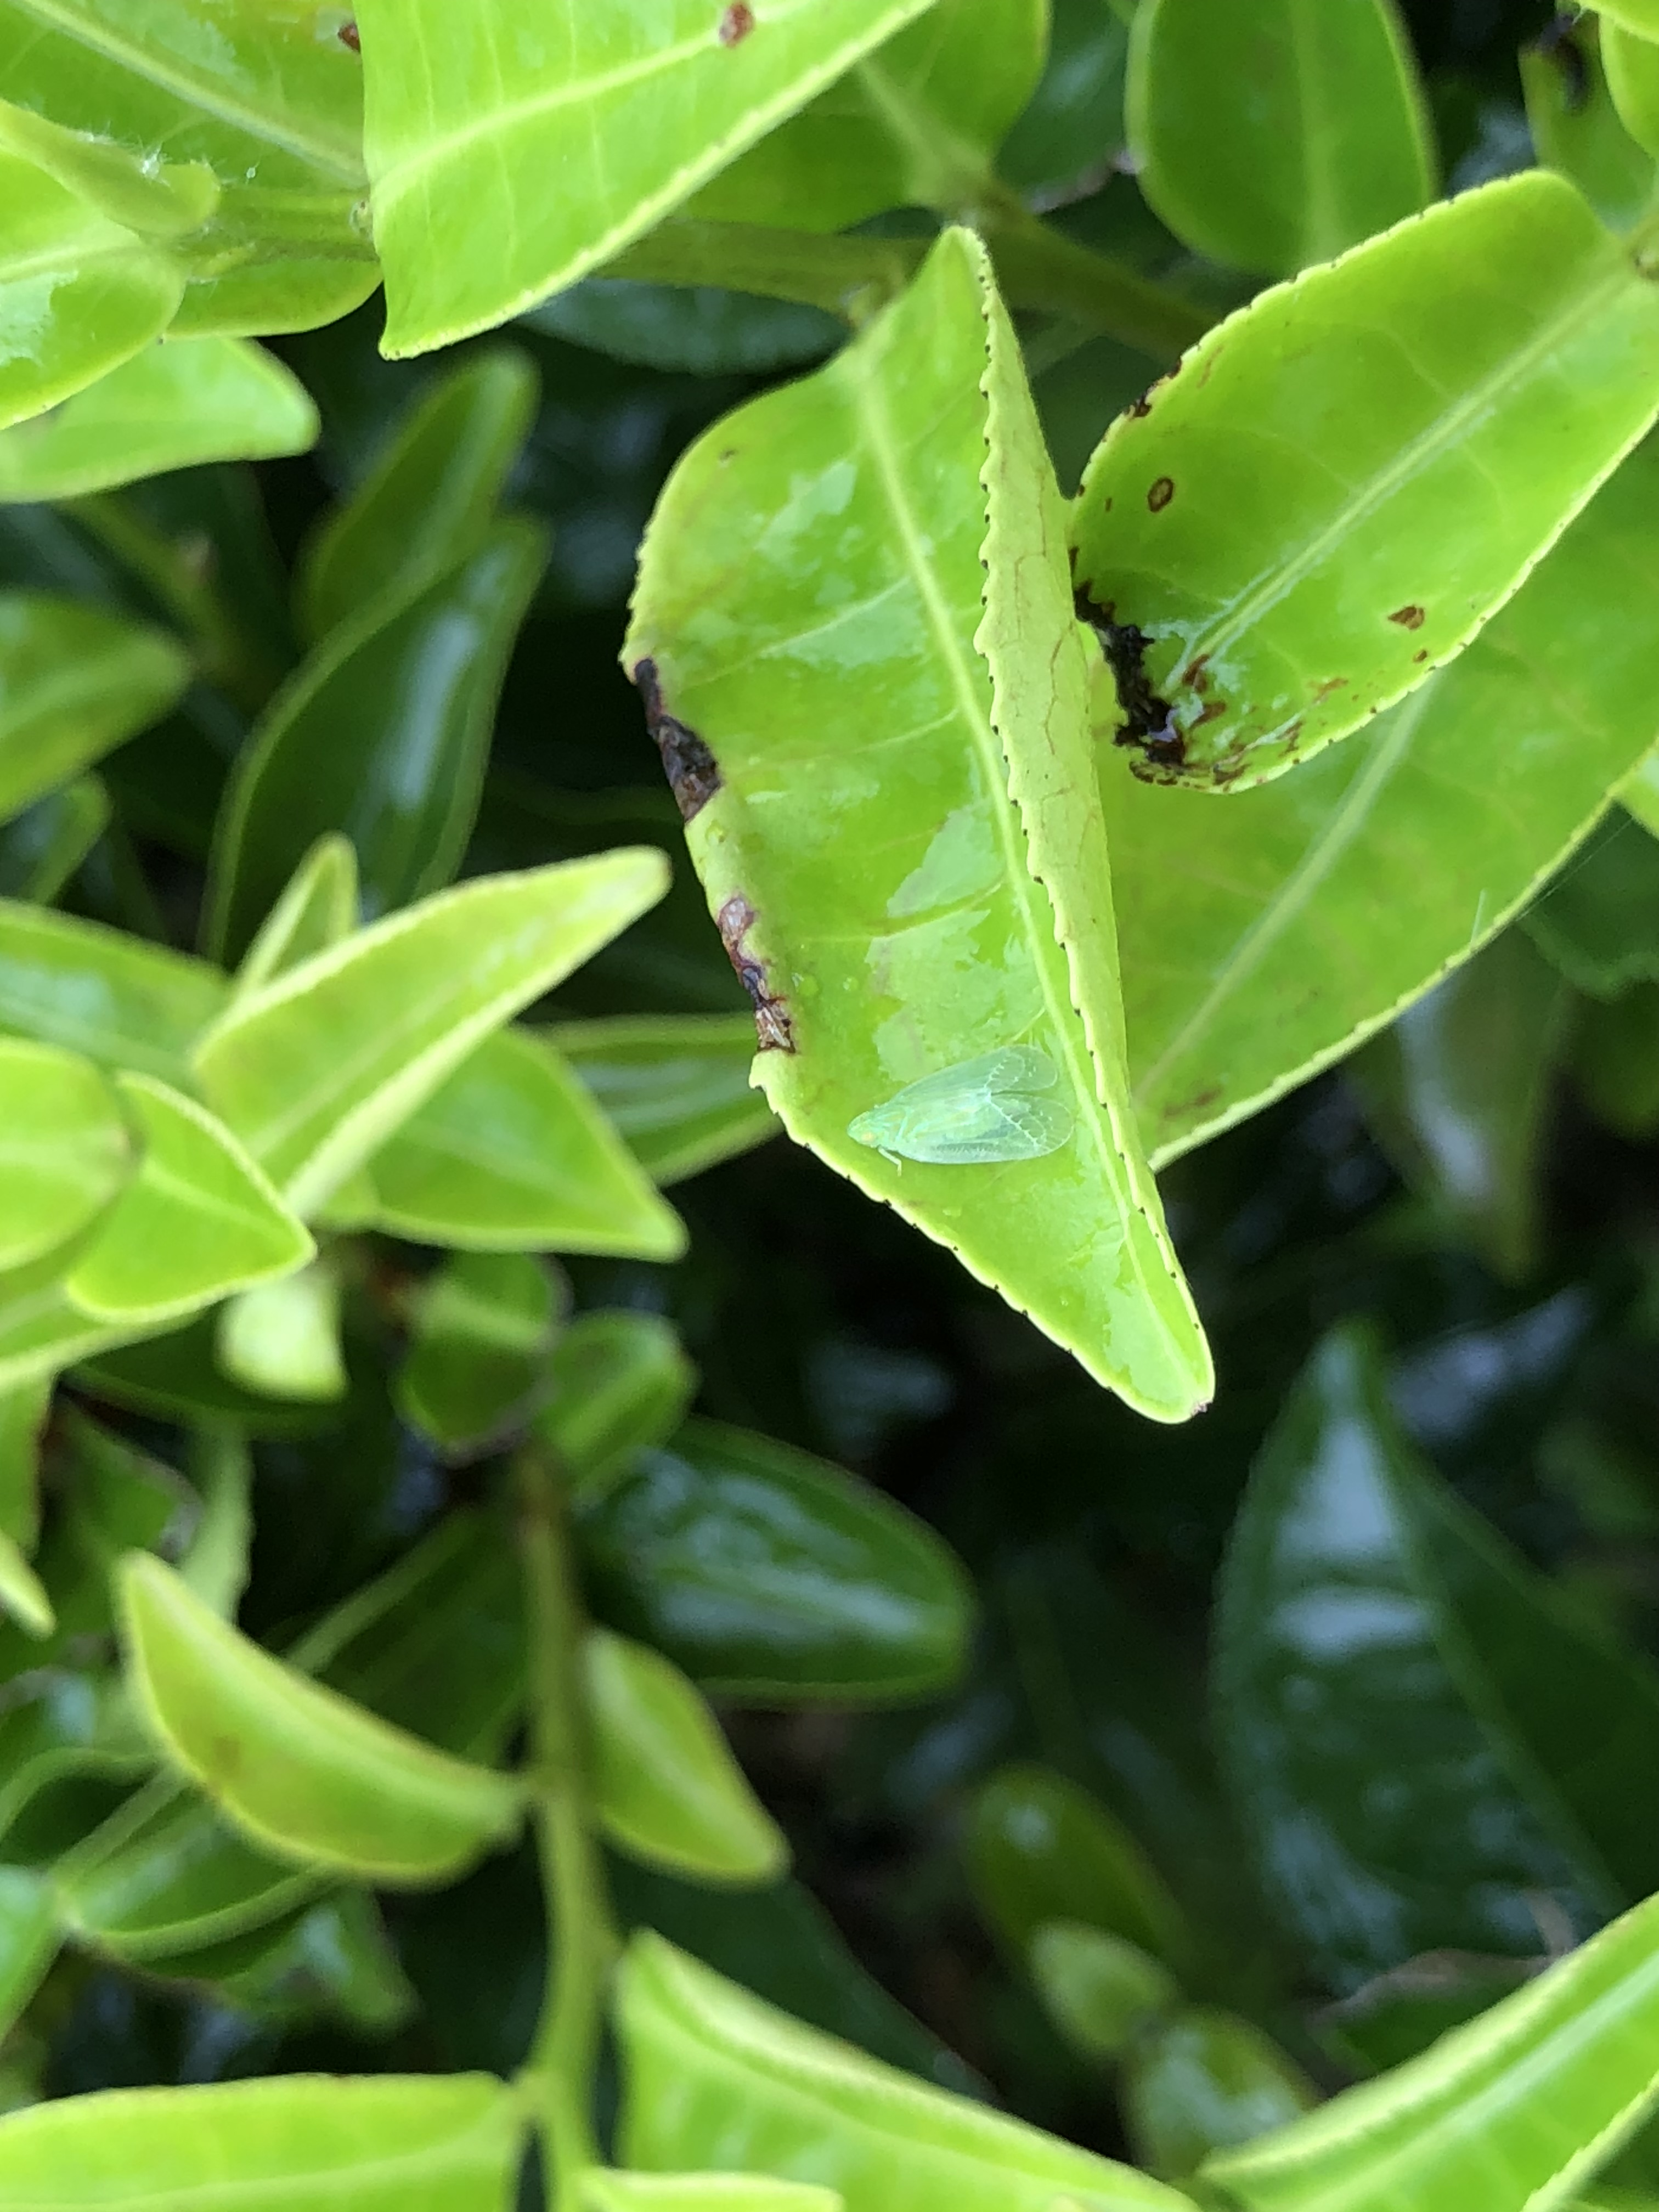brownblight: (662, 214, 1169, 1449)
mosquito_early: (1044, 183, 1645, 784)
